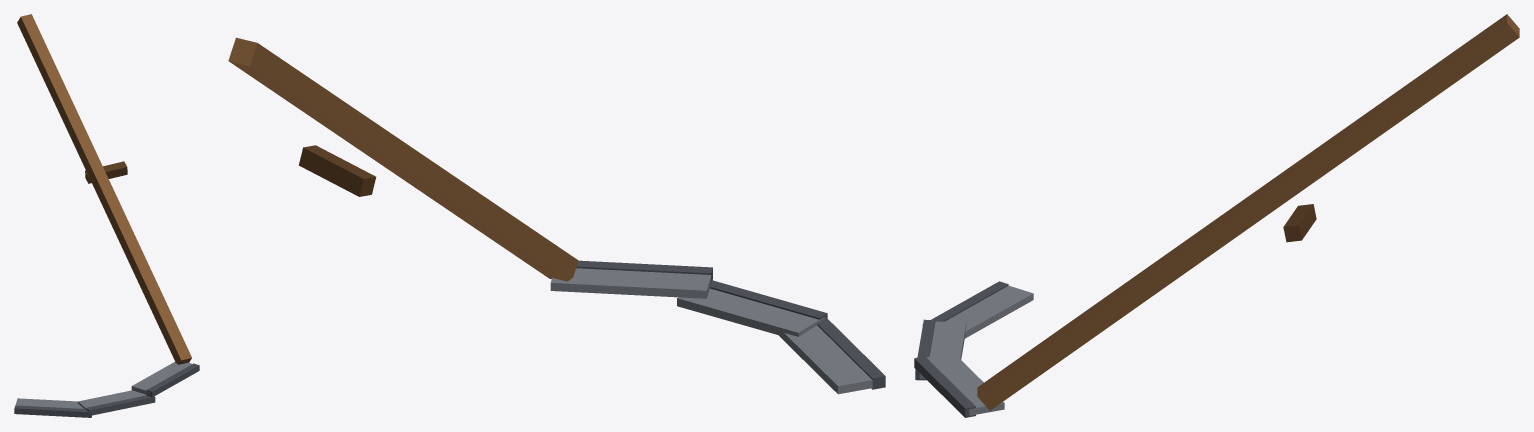
Rendered from fld_scythe.glb.
The picture shows the model from 3 angles, left to right: view 1: azimuth 30°, elevation 25°; view 2: azimuth 150°, elevation 25°; view 3: azimuth 270°, elevation 25°; orthographic projection. The views are drawn at different scales.
Visible parts, largest first — view 1: fld_scythe; view 2: fld_scythe; view 3: fld_scythe.
Boxes of the visible parts, x1,y1,x2,y2 form: fld_scythe: [14, 14, 199, 417]; fld_scythe: [228, 37, 885, 394]; fld_scythe: [914, 14, 1519, 417].
Size of the model in its own units: 0.2613 by 0.304 by 0.4114.
